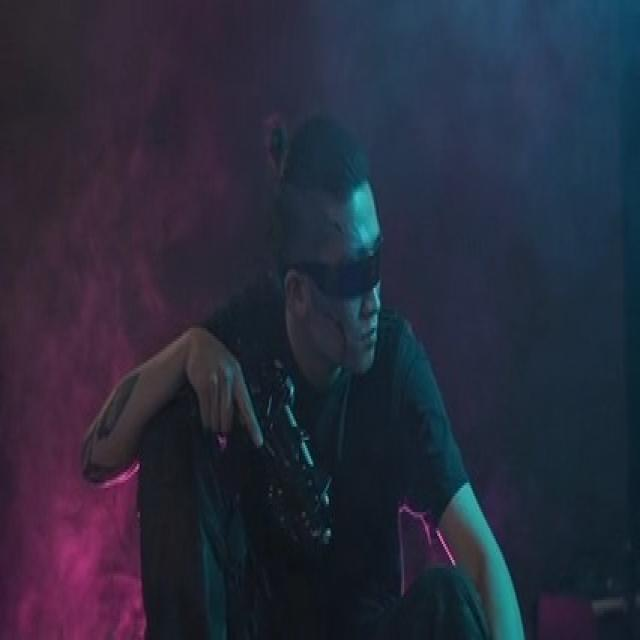Gun_Holder: (204, 336, 358, 586)
Person: (96, 16, 529, 640)
